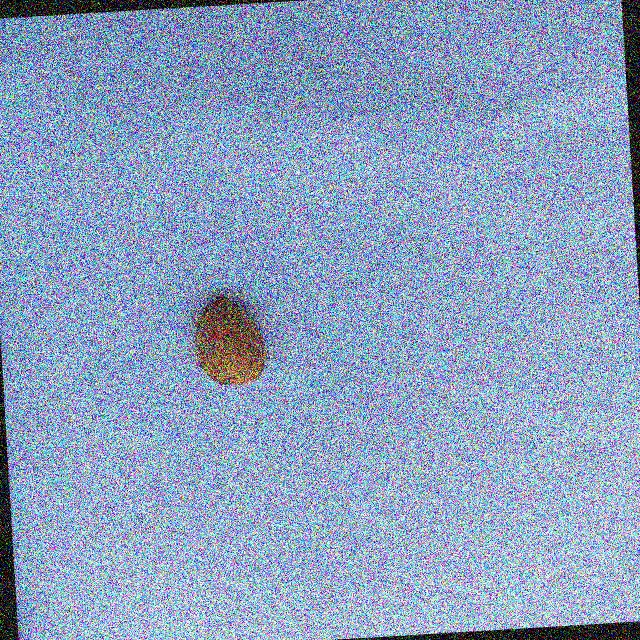grade2: (189, 290, 274, 391)
